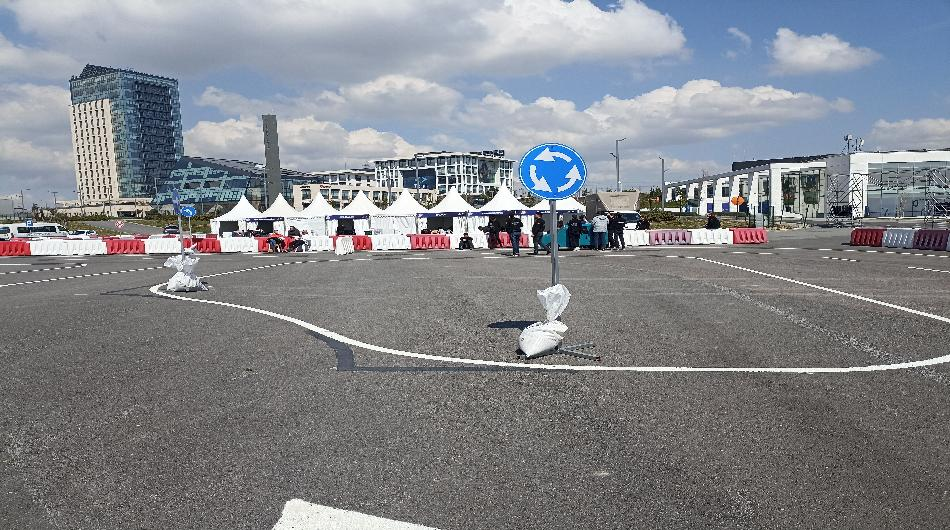ada: (519, 141, 585, 196)
